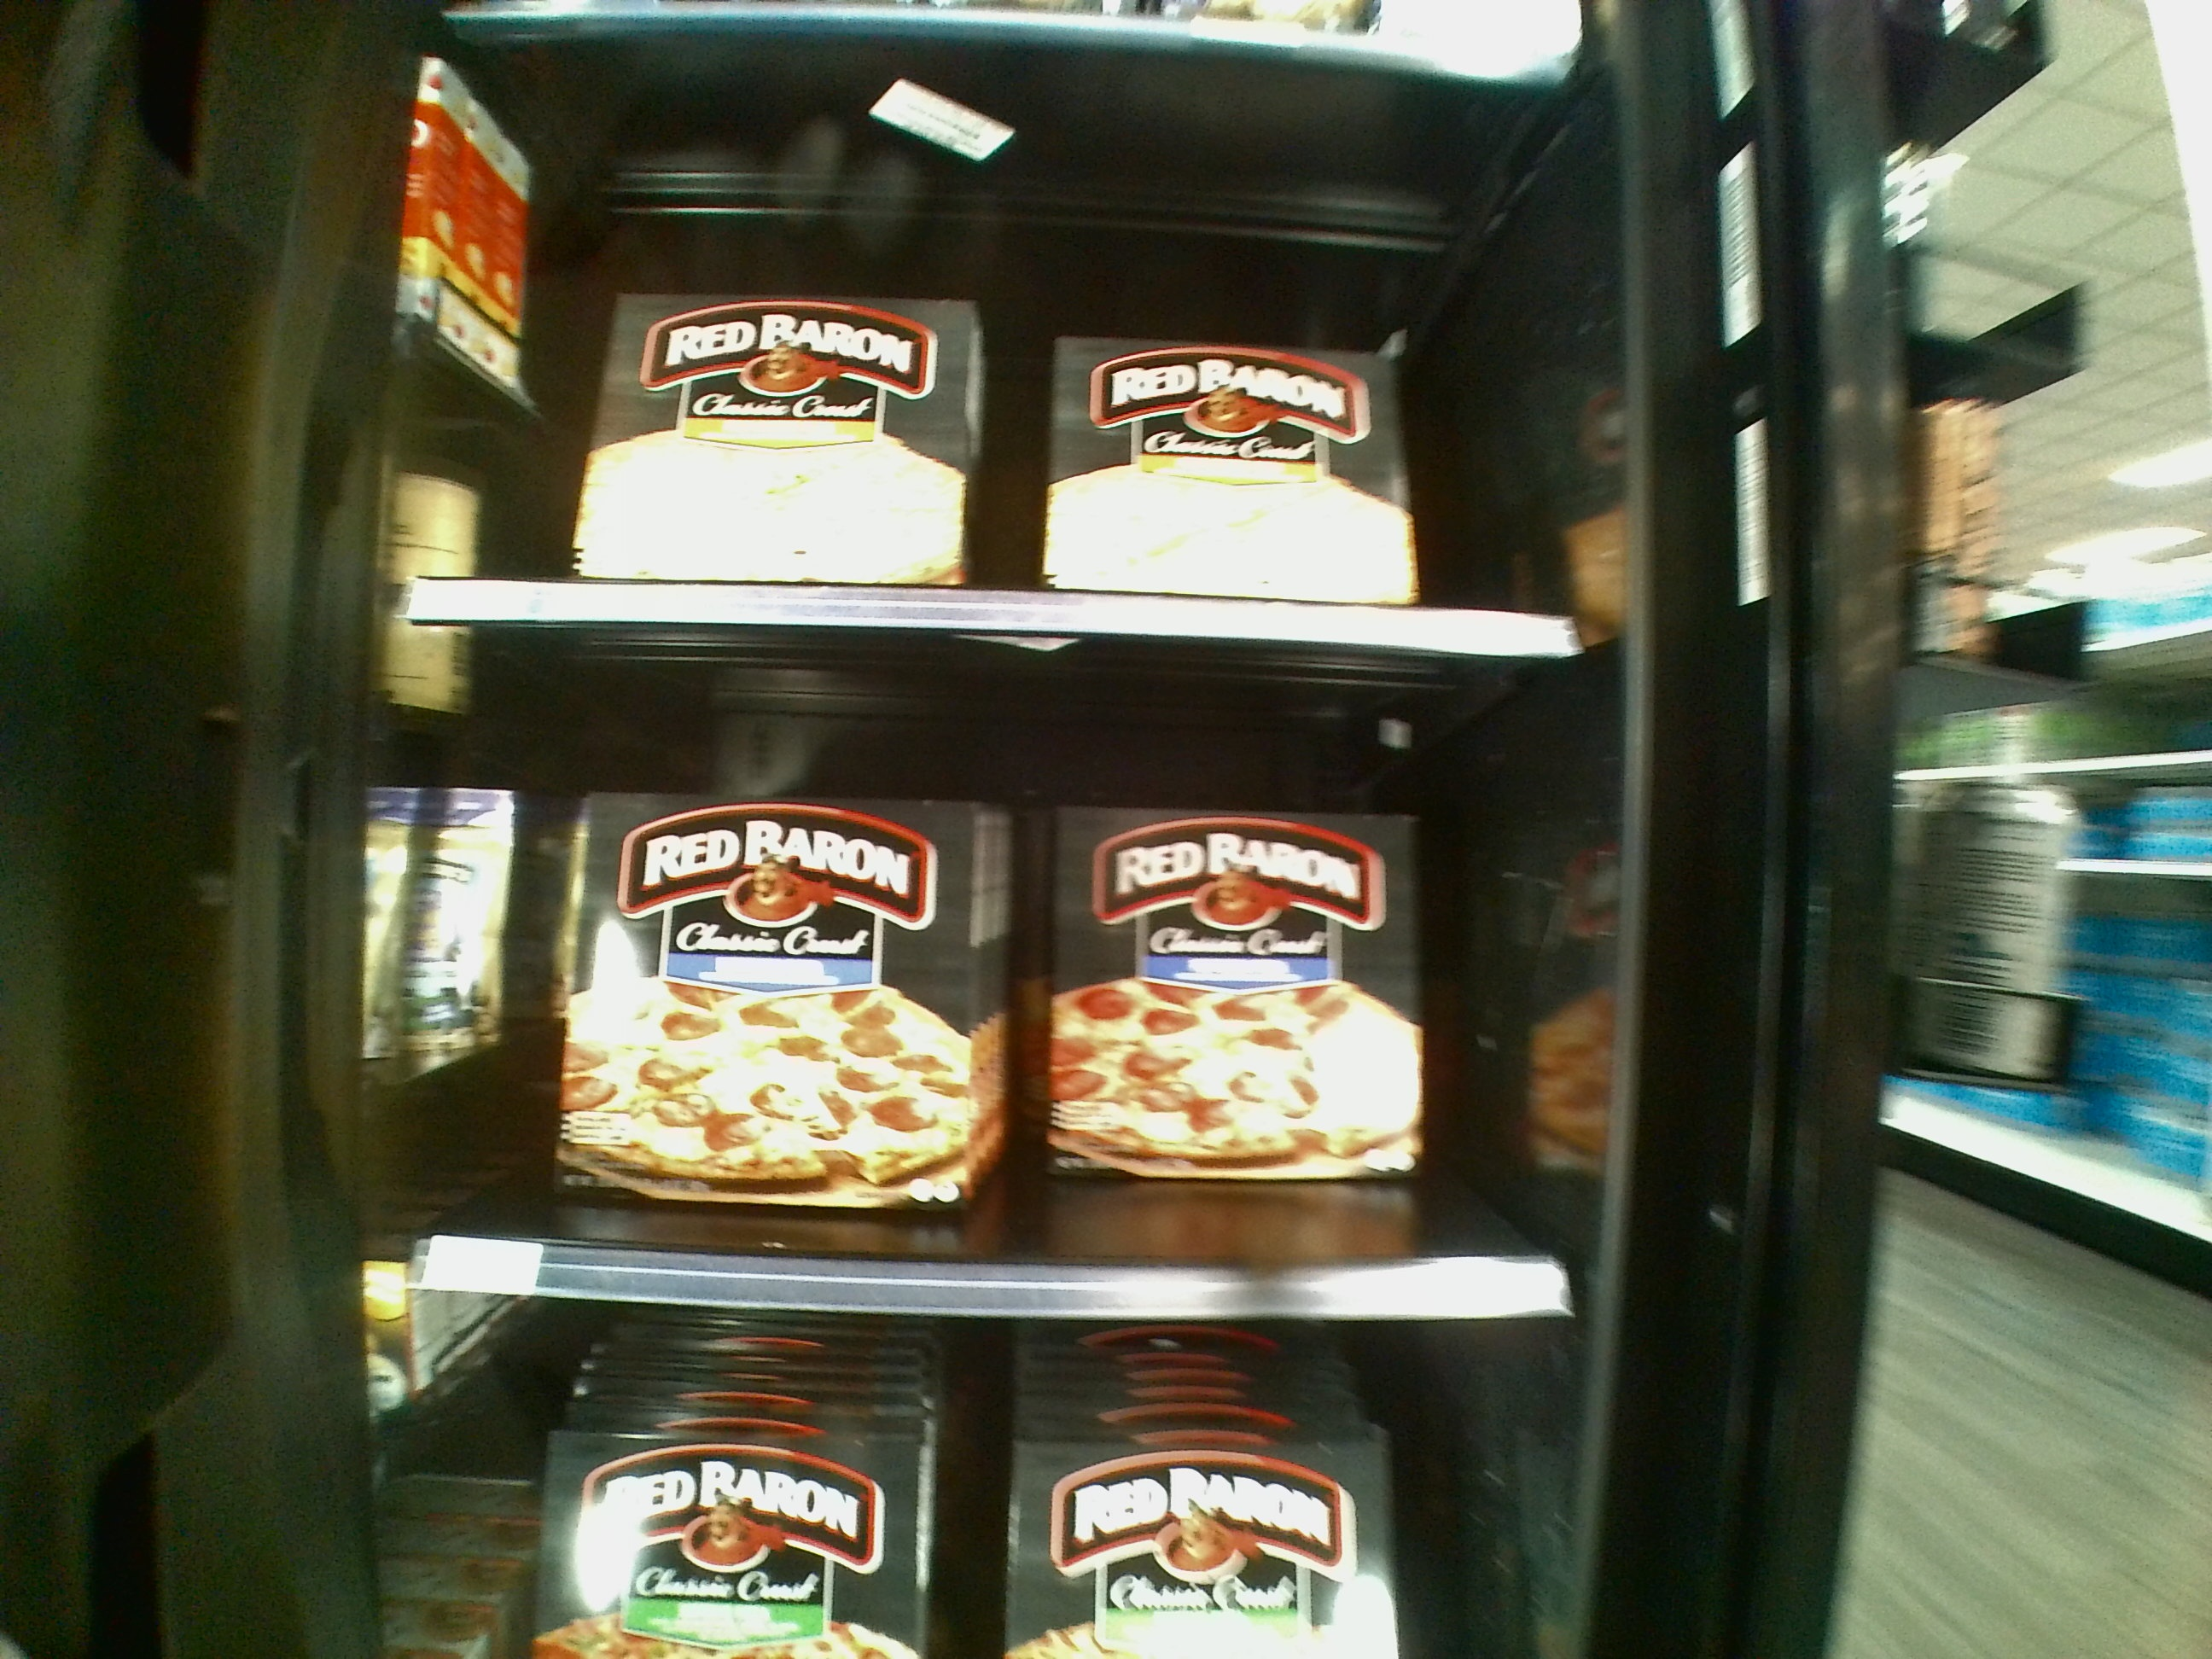shelf: (462, 633, 1568, 1312), (470, 12, 1597, 657)
